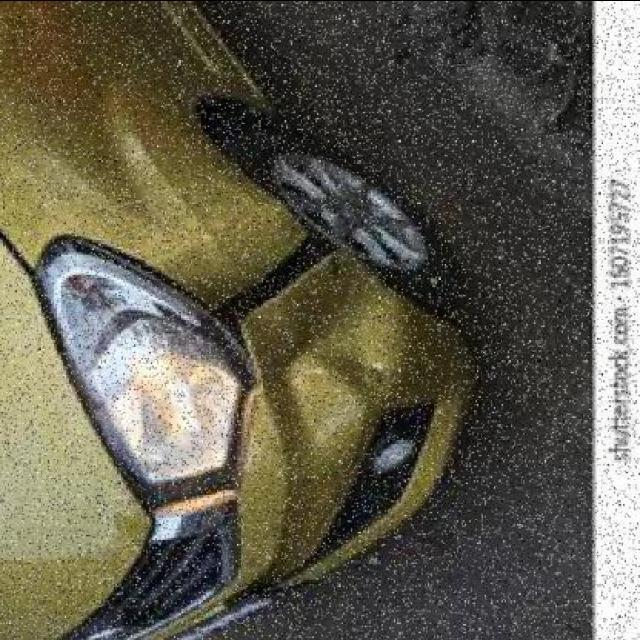fender-dent: (0, 2, 331, 304)
front-bumper-dent: (219, 229, 476, 583)
